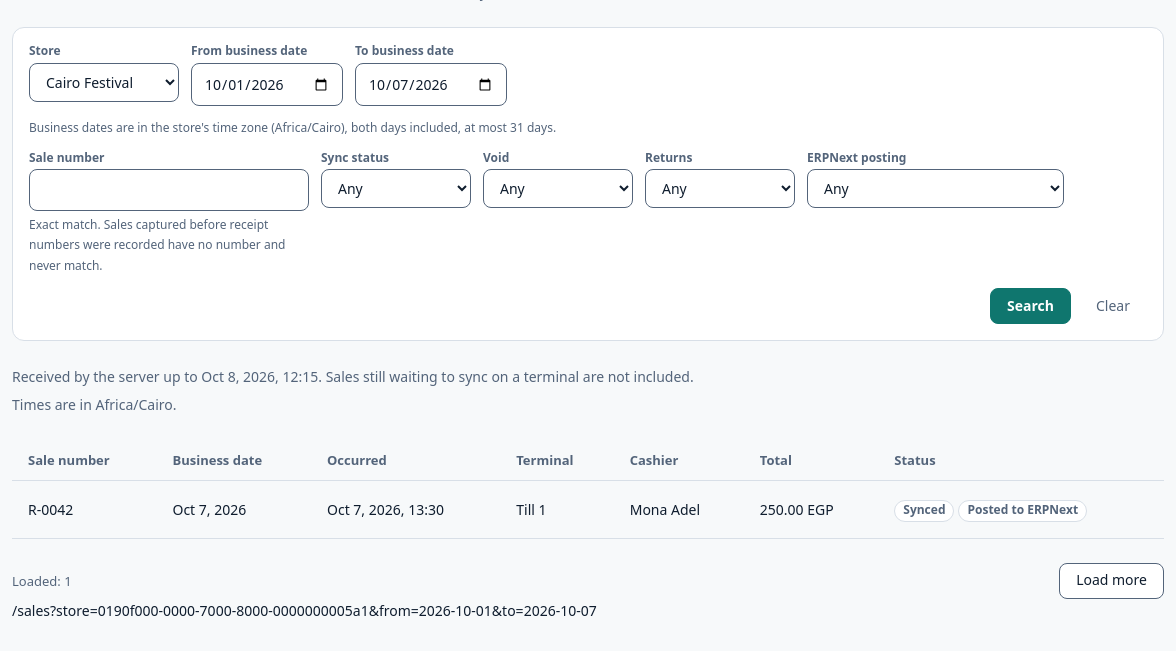
it: SaleList (RT-587, spec 012 J1) › a 400 on a continuation page restarts the walk from the first page
What coordinates should you click on to do the following:
click the button "Load more"
I would click on:
 (1112, 581)
Its box is [1059,563,1164,599].
(page scrolled)
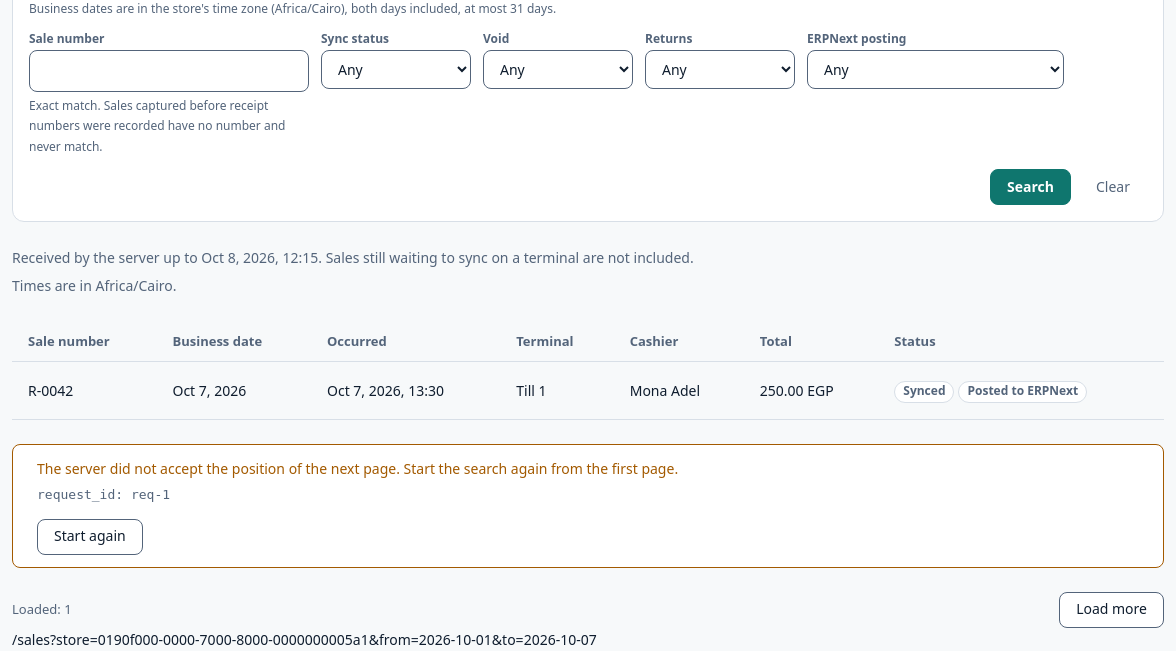
Expected: the text "did not accept the position of the next page" is shown, [37,459,678,478]
What coordinates should you click on to do the following:
click the button "Start again"
I would click on:
 (90, 536)
Its box is [37,518,143,554].
(page scrolled)
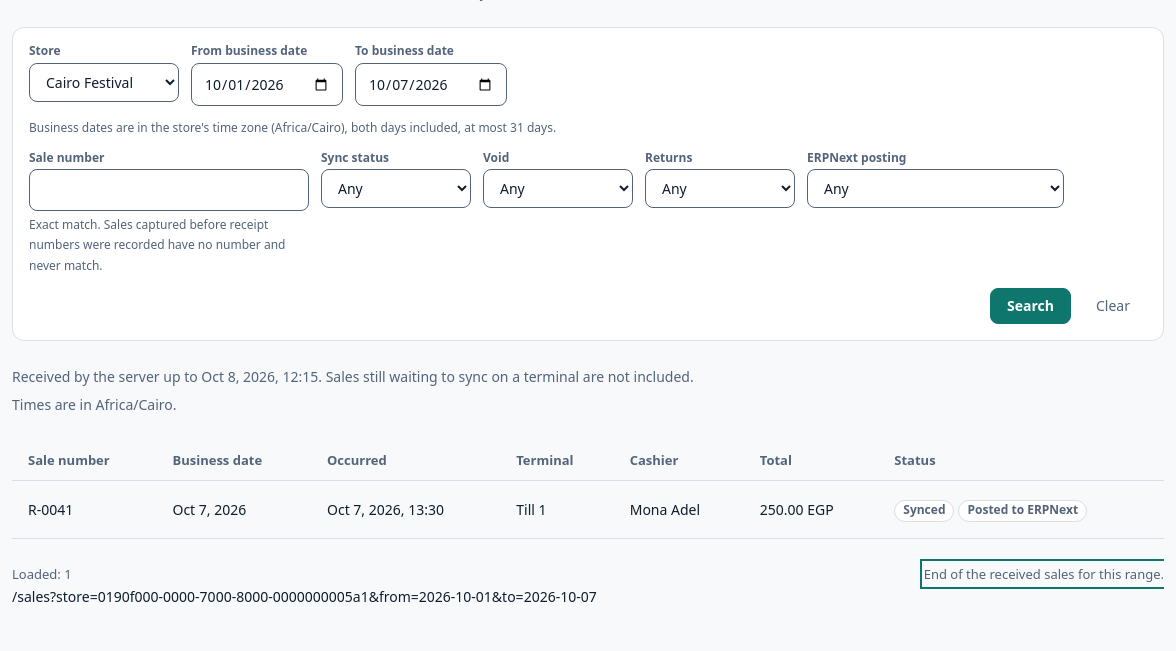
Expected: the text "R-0041" is shown, [28,500,73,519]
Expected: the text "R-0042" is gone
